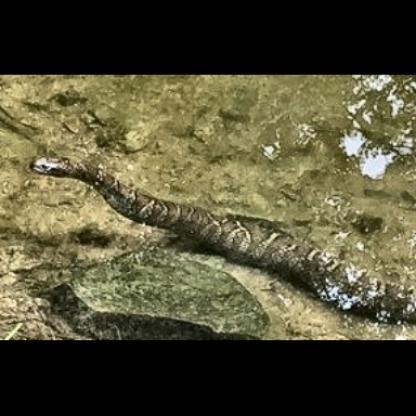Snake: (3, 97, 408, 341)
